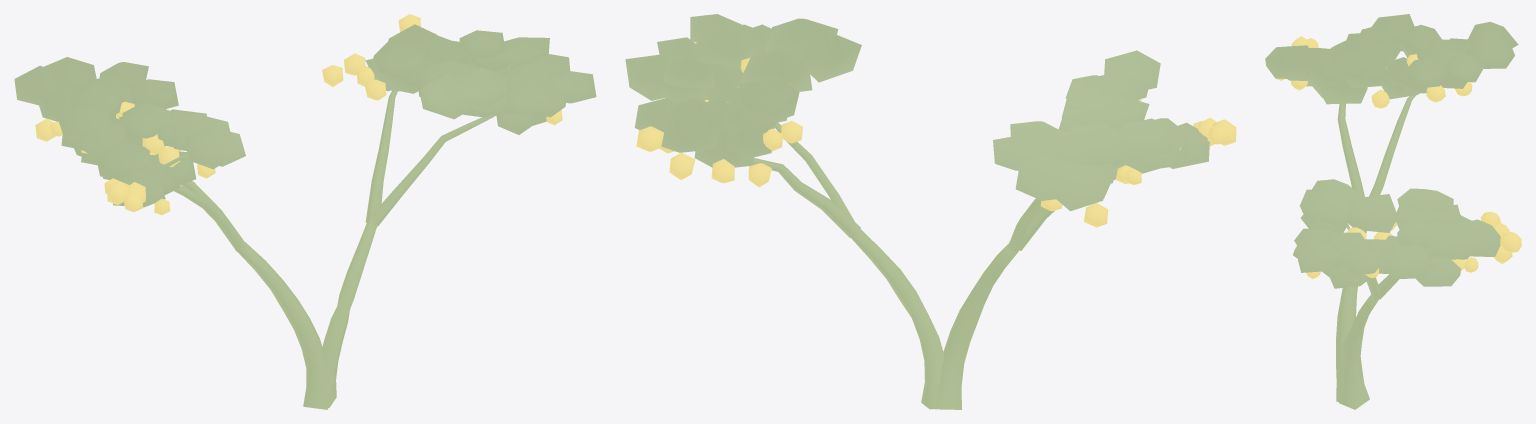
Rendered from Blender_Palo_3_Far.glb.
3 renders of one model, left to right at view 1: azimuth 30°, elevation 25°; view 2: azimuth 150°, elevation 25°; view 3: azimuth 270°, elevation 25°, orthographic. The views are drawn at different scales.
Visible parts, largest first — view 1: Blender_Palo_3_Far; view 2: Blender_Palo_3_Far; view 3: Blender_Palo_3_Far.
Boxes of the visible parts, <box> form: Blender_Palo_3_Far: <box>14,14,596,409</box>; Blender_Palo_3_Far: <box>625,14,1236,409</box>; Blender_Palo_3_Far: <box>1265,14,1521,409</box>.
Size of the model in its own units: 9.27 by 5.91 by 4.62.
